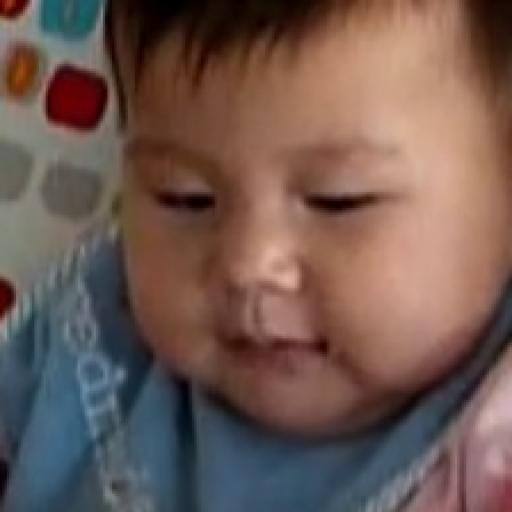Autism: (98, 0, 500, 427)
